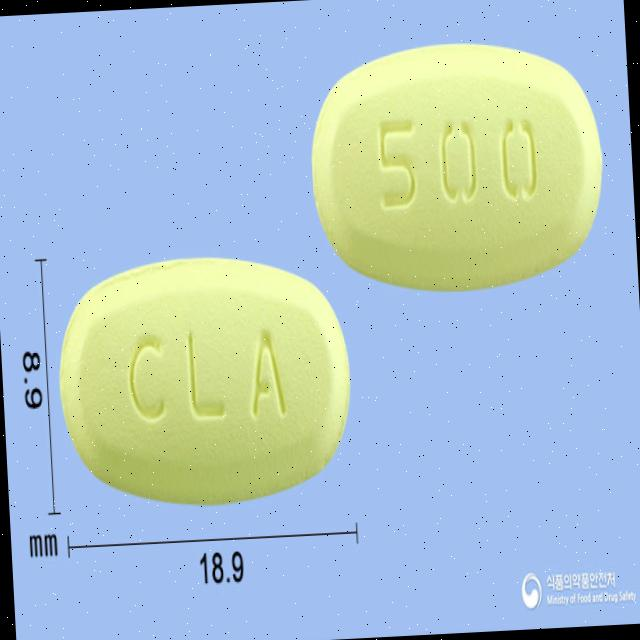Clar: (49, 244, 361, 516), (302, 28, 614, 300)
